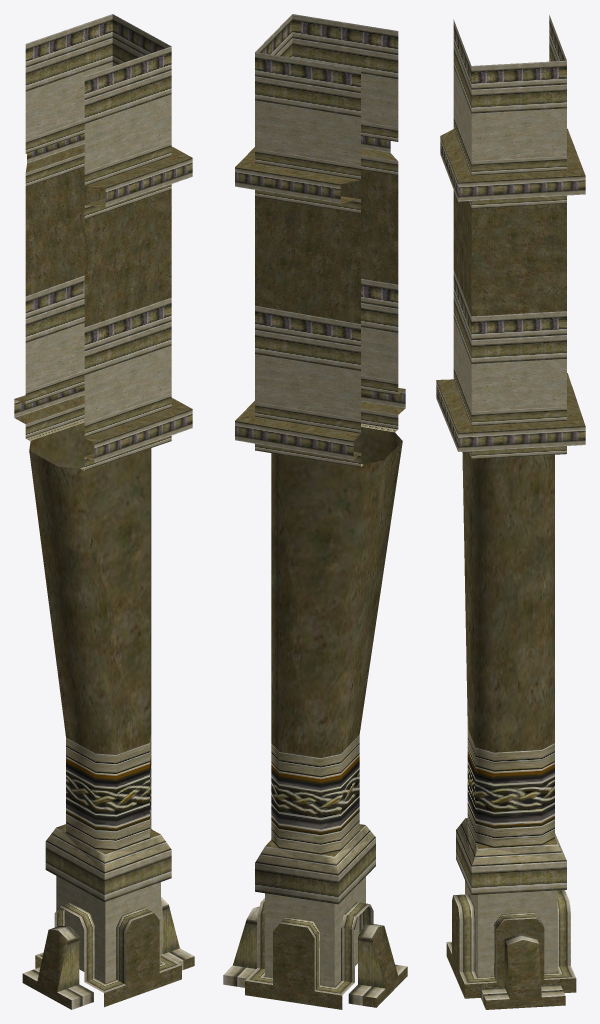
Rendered from CH09_SMAUG_PLAYSURFACE_LAIR117.fbx.
3 renders of one model, left to right at view 1: azimuth 30°, elevation 25°; view 2: azimuth 150°, elevation 25°; view 3: azimuth 270°, elevation 25°, orthographic.
Parts seen in each view (by area): view 1: CH09_SMAUG_PLAYSURFACE_LAIR117; view 2: CH09_SMAUG_PLAYSURFACE_LAIR117; view 3: CH09_SMAUG_PLAYSURFACE_LAIR117.
Part boxes in pixels (x1,y1,x2,y2): CH09_SMAUG_PLAYSURFACE_LAIR117: [14, 14, 194, 1009]; CH09_SMAUG_PLAYSURFACE_LAIR117: [223, 14, 407, 1009]; CH09_SMAUG_PLAYSURFACE_LAIR117: [436, 15, 585, 1009].
Bounding box in the file's own units: 44811 × 271667 × 39486.
Materials: 7 (7 with a texture image).
